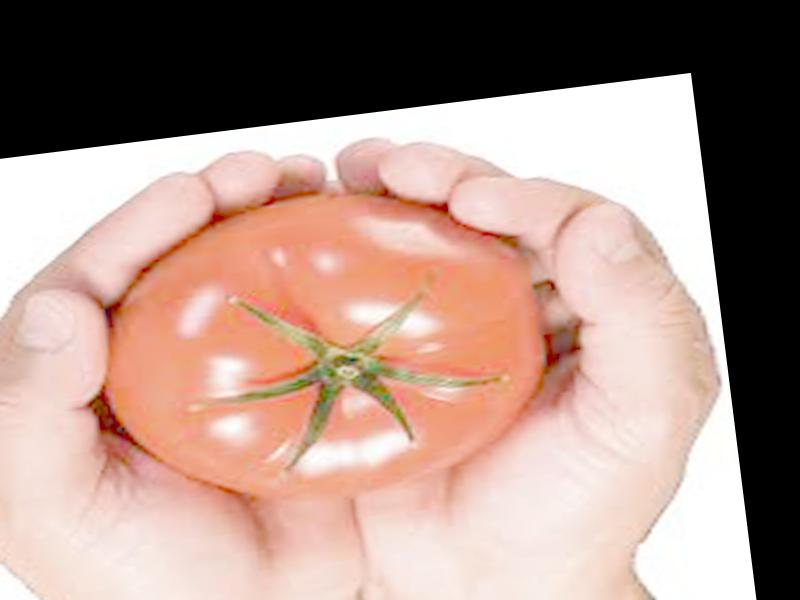Tomato: (84, 173, 561, 519)
